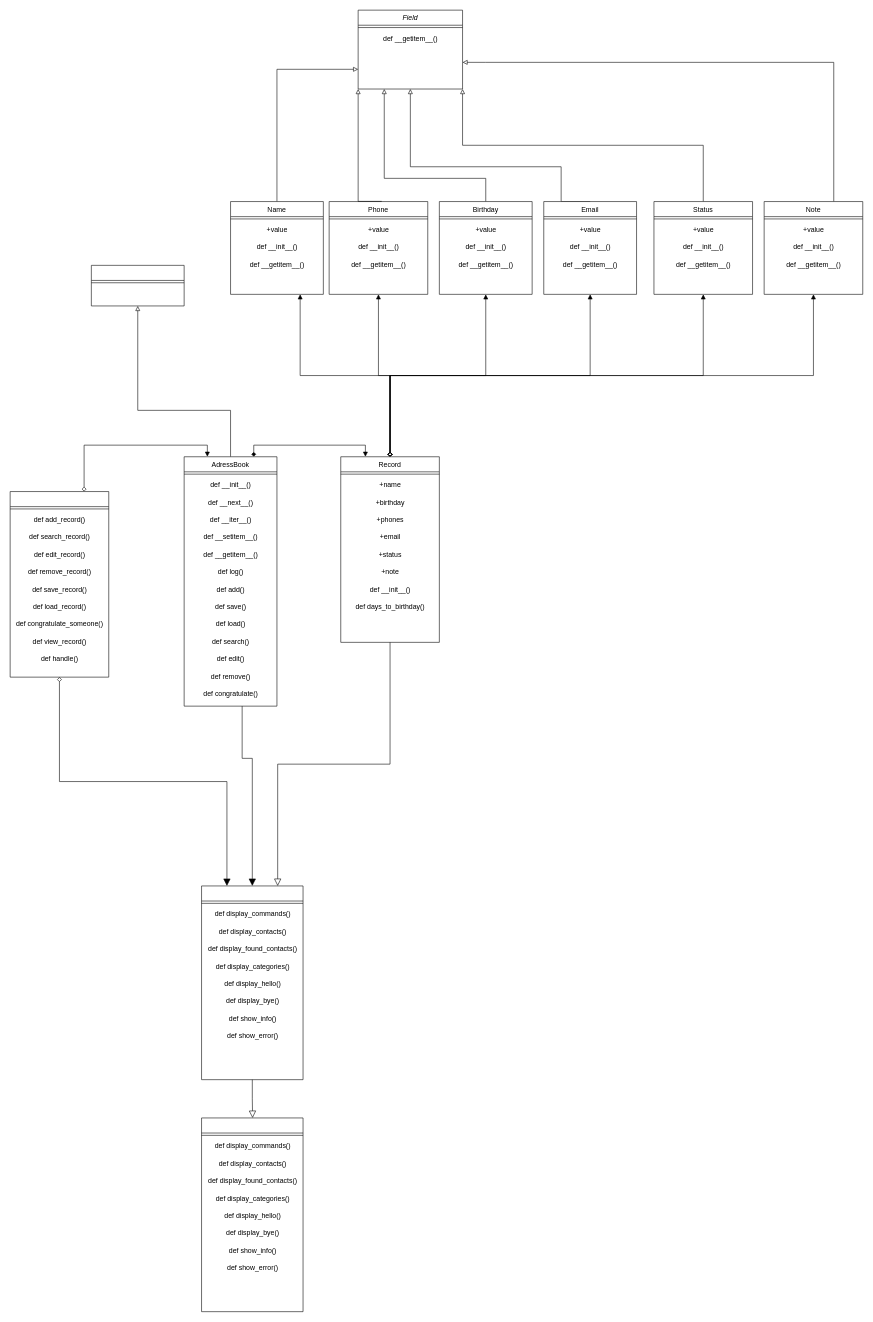
This 873x1322 diagram has some shape labels left out. The shapes that lost their labels are listed below. From the top down, each one's box as (x1, y1, x2, y2) in pixels, then its label:
(91, 265, 184, 306): UserList
(10, 491, 109, 677): Bot
(201, 885, 303, 1080): MyView
(201, 1117, 303, 1312): View
